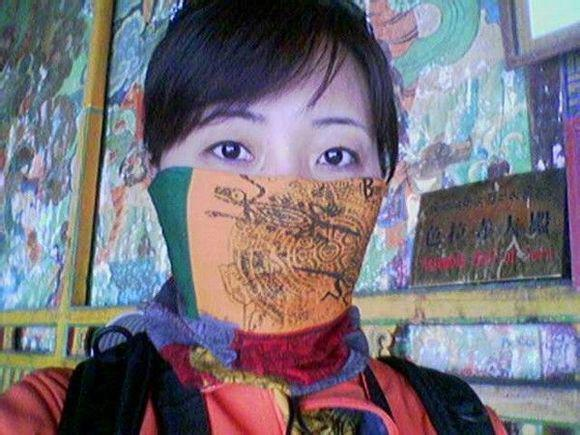OK: (172, 98, 373, 299)
